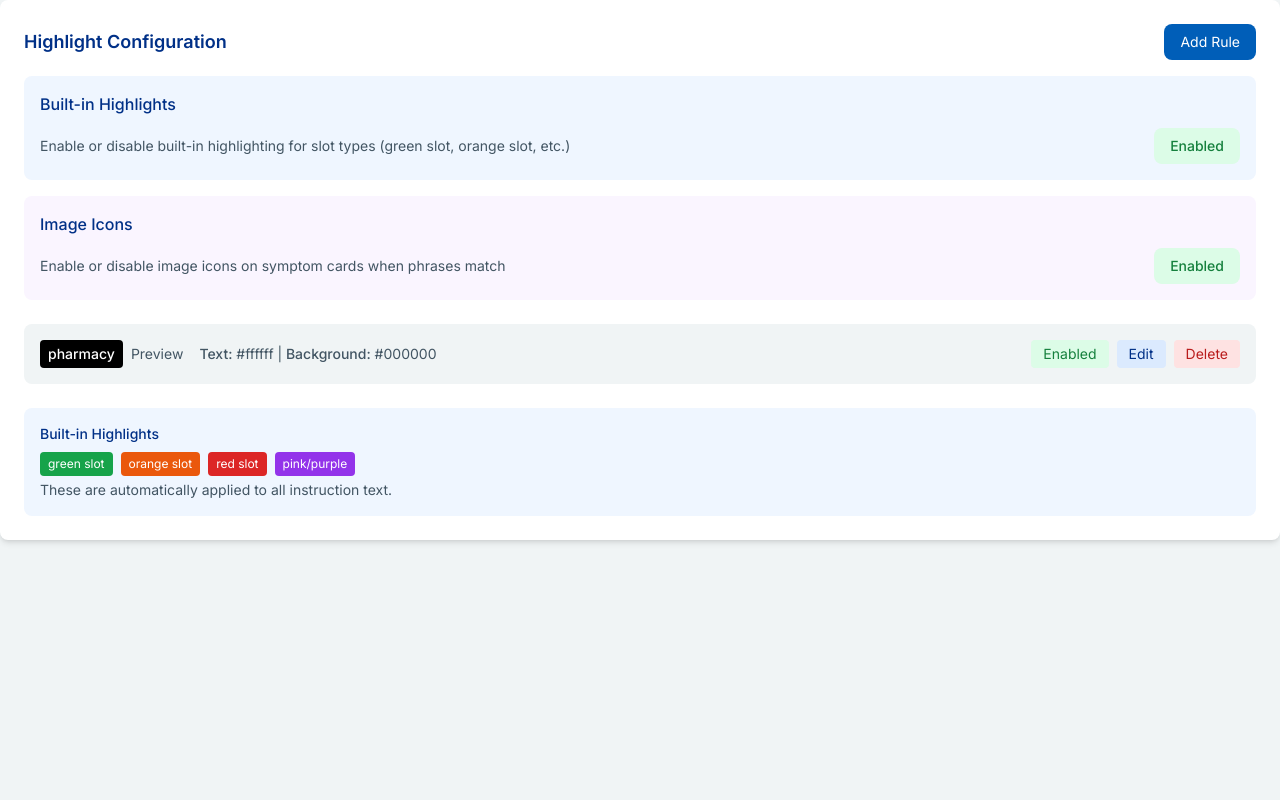
Test: HighlightConfig duplicate create recovery › switches into edit mode after a 409 duplicate create
Expected: the text "pharmacy" is shown, [40,340,123,368]
Click the button "Add Rule": (1210, 42) [1164,24,1256,60]
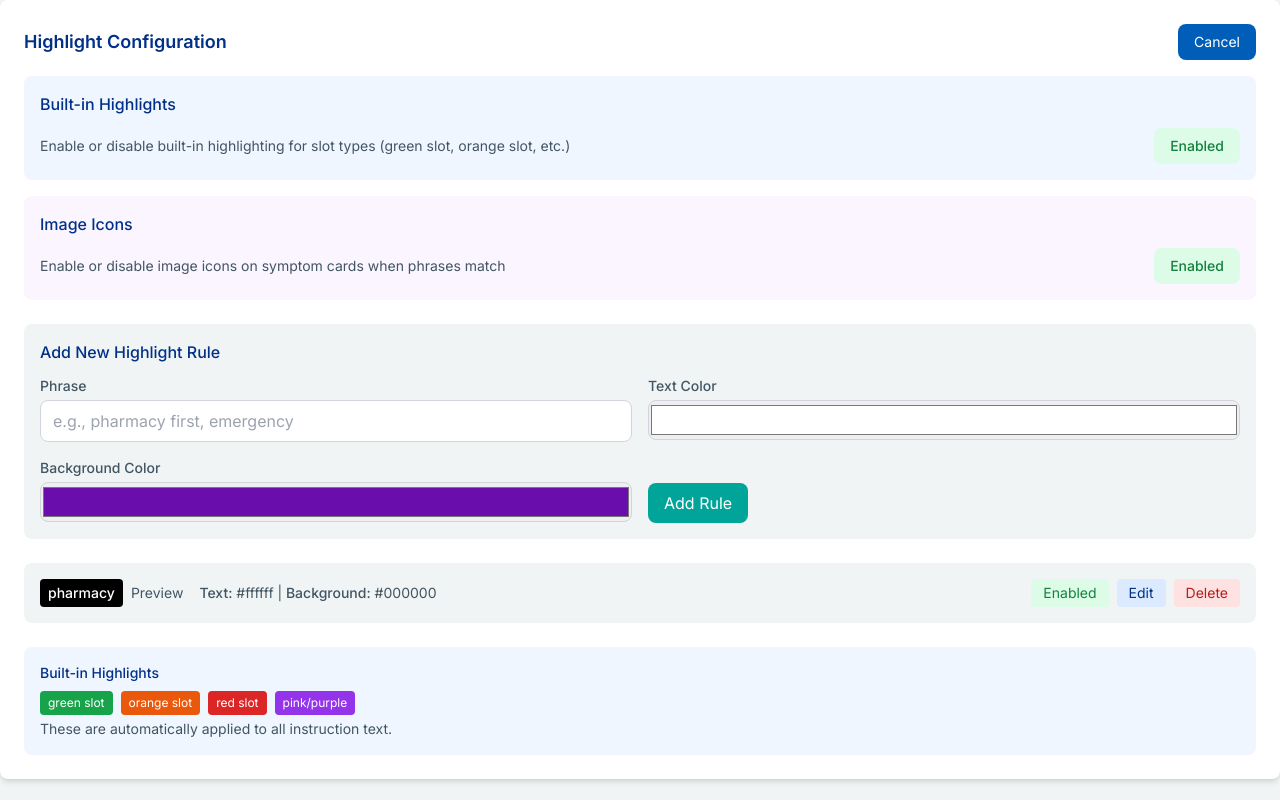
In the field labelled "Phrase": (336, 421) [40,400,632,442], type "Pharmacy"
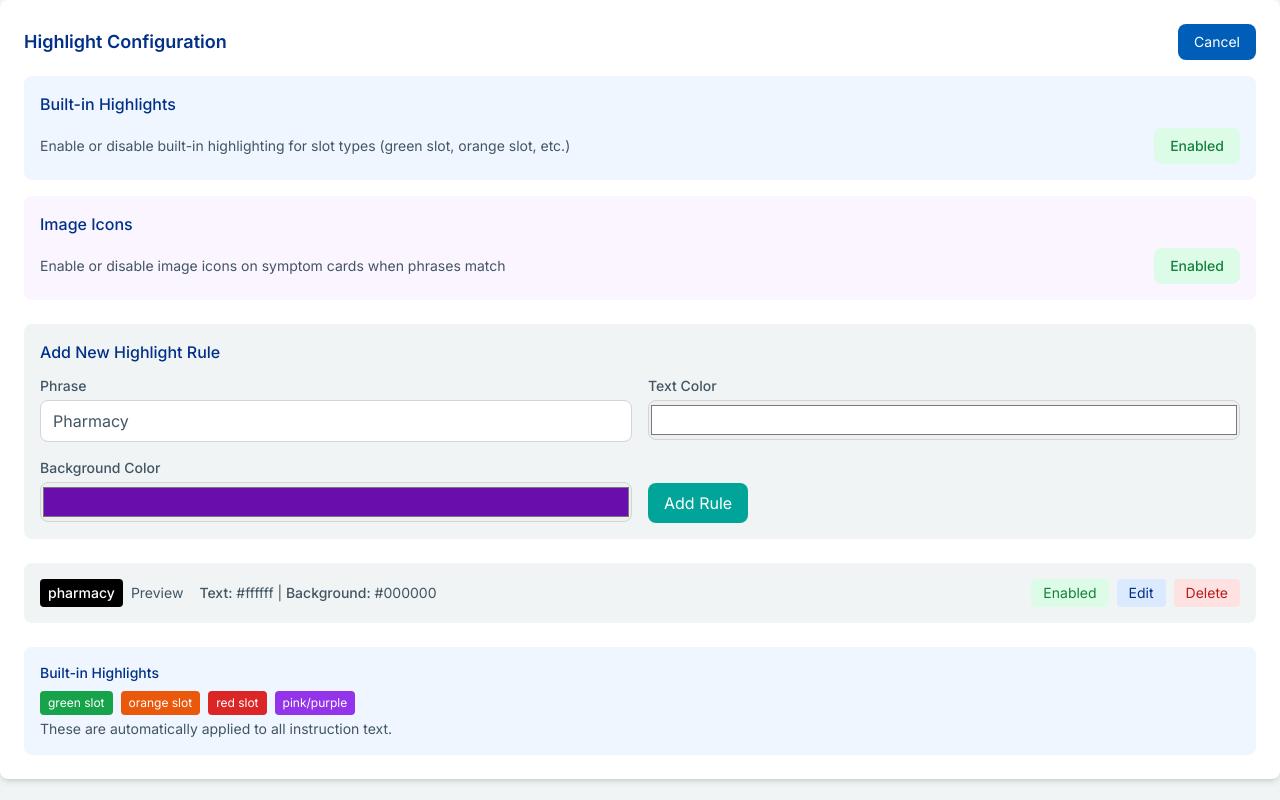
Click the button "Add Rule": (698, 503) [648,483,748,523]
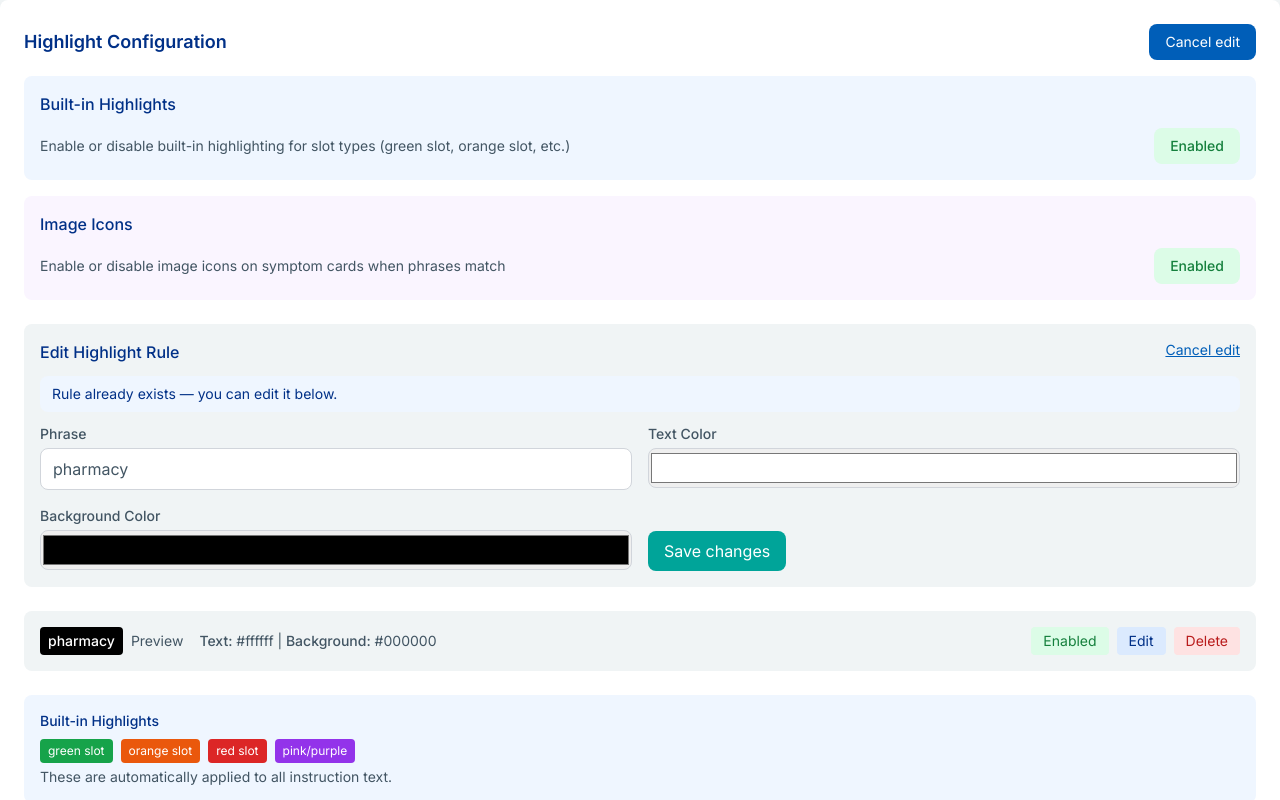
Now the button "Save changes" is shown, box [648,531,786,571]
Now the text "Rule already exists — you can edit it below." is shown, box [40,376,1240,412]
